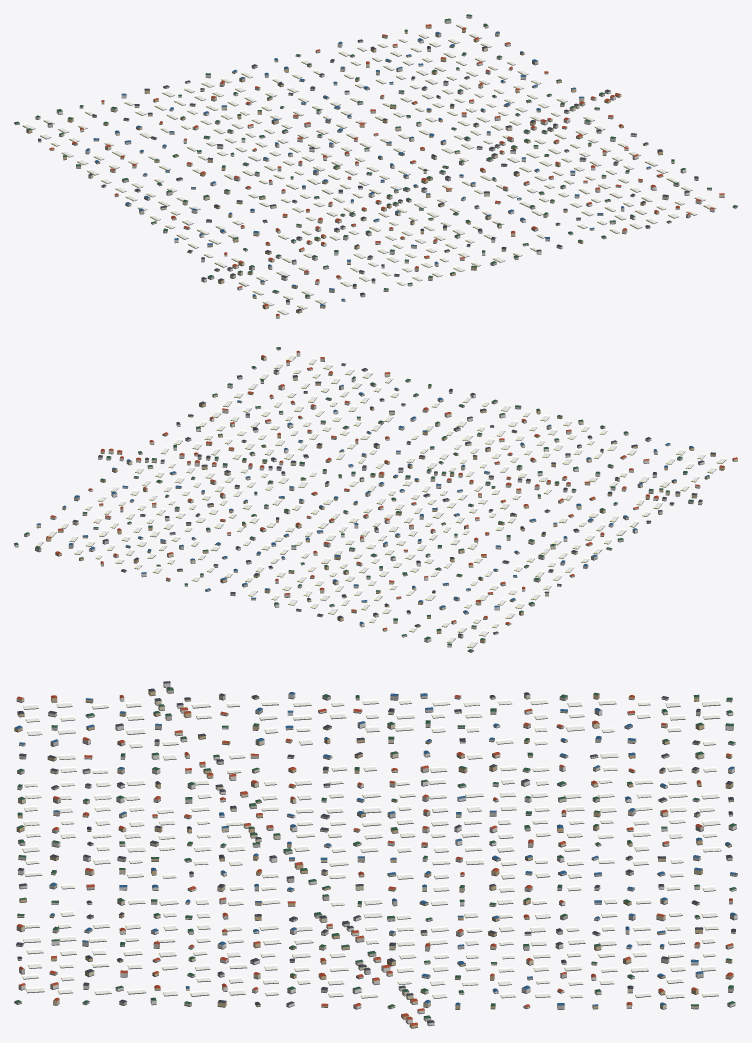
The model's file is buildings_T_E02_S07.glb.
3 renders of one model, top to bottom at view 1: azimuth 30°, elevation 25°; view 2: azimuth 150°, elevation 25°; view 3: azimuth 270°, elevation 25°, orthographic. The views are drawn at different scales.
Visible parts, largest first — view 1: T_E02_S07_roofs_agri_greenhouse_arch, T_E02_S07_slope_seating_foundations, T_E02_S07_walls_wall_pastel_sand_gray, T_E02_S07_walls_wall_modern_warm_white, T_E02_S07_walls_wall_french_ochre_villa, T_E02_S07_walls_wall_dalat_cream_stucco, T_E02_S07_roofs_roof_pine_green_hip, T_E02_S07_roofs_roof_terracotta_gable, T_E02_S07_roofs_roof_slate_French_villa_hip, T_E02_S07_roofs_roof_highland_blue_gable; view 2: T_E02_S07_roofs_agri_greenhouse_arch, T_E02_S07_slope_seating_foundations, T_E02_S07_walls_wall_pastel_sand_gray, T_E02_S07_walls_wall_dalat_cream_stucco, T_E02_S07_walls_wall_french_ochre_villa, T_E02_S07_walls_wall_modern_warm_white, T_E02_S07_roofs_roof_pine_green_hip, T_E02_S07_roofs_roof_terracotta_gable, T_E02_S07_roofs_roof_slate_French_villa_hip, T_E02_S07_roofs_roof_highland_blue_gable; view 3: T_E02_S07_roofs_agri_greenhouse_arch, T_E02_S07_slope_seating_foundations, T_E02_S07_walls_wall_modern_warm_white, T_E02_S07_walls_wall_pastel_sand_gray, T_E02_S07_walls_wall_dalat_cream_stucco, T_E02_S07_walls_wall_french_ochre_villa, T_E02_S07_roofs_roof_pine_green_hip, T_E02_S07_roofs_roof_terracotta_gable, T_E02_S07_roofs_roof_slate_French_villa_hip, T_E02_S07_roofs_roof_highland_blue_gable.
Boxes of the visible parts, bbox=[...] form: T_E02_S07_roofs_agri_greenhouse_arch: bbox=[22, 23, 716, 314]; T_E02_S07_slope_seating_foundations: bbox=[14, 17, 737, 318]; T_E02_S07_walls_wall_pastel_sand_gray: bbox=[14, 20, 737, 298]; T_E02_S07_walls_wall_modern_warm_white: bbox=[35, 15, 714, 304]; T_E02_S07_walls_wall_french_ochre_villa: bbox=[26, 25, 662, 312]; T_E02_S07_walls_wall_dalat_cream_stucco: bbox=[49, 24, 724, 318]; T_E02_S07_roofs_roof_pine_green_hip: bbox=[14, 14, 737, 296]; T_E02_S07_roofs_roof_terracotta_gable: bbox=[50, 24, 724, 315]; T_E02_S07_roofs_roof_slate_French_villa_hip: bbox=[38, 39, 698, 311]; T_E02_S07_roofs_roof_highland_blue_gable: bbox=[85, 31, 650, 306]; T_E02_S07_roofs_agri_greenhouse_arch: bbox=[35, 354, 726, 647]; T_E02_S07_slope_seating_foundations: bbox=[14, 349, 737, 652]; T_E02_S07_walls_wall_pastel_sand_gray: bbox=[35, 348, 693, 652]; T_E02_S07_walls_wall_dalat_cream_stucco: bbox=[24, 356, 737, 628]; T_E02_S07_walls_wall_french_ochre_villa: bbox=[46, 372, 724, 642]; T_E02_S07_walls_wall_modern_warm_white: bbox=[14, 352, 704, 646]; T_E02_S07_roofs_roof_pine_green_hip: bbox=[14, 347, 693, 651]; T_E02_S07_roofs_roof_terracotta_gable: bbox=[46, 350, 737, 629]; T_E02_S07_roofs_roof_slate_French_villa_hip: bbox=[72, 363, 715, 635]; T_E02_S07_roofs_roof_highland_blue_gable: bbox=[36, 384, 709, 623]; T_E02_S07_roofs_agri_greenhouse_arch: bbox=[22, 698, 721, 998]; T_E02_S07_slope_seating_foundations: bbox=[14, 686, 737, 1028]; T_E02_S07_walls_wall_modern_warm_white: bbox=[18, 683, 737, 1025]; T_E02_S07_walls_wall_pastel_sand_gray: bbox=[14, 688, 735, 1020]; T_E02_S07_walls_wall_dalat_cream_stucco: bbox=[16, 693, 737, 1009]; T_E02_S07_walls_wall_french_ochre_villa: bbox=[14, 690, 733, 1028]; T_E02_S07_roofs_roof_pine_green_hip: bbox=[14, 687, 736, 1018]; T_E02_S07_roofs_roof_terracotta_gable: bbox=[16, 695, 733, 1025]; T_E02_S07_roofs_roof_slate_French_villa_hip: bbox=[16, 681, 735, 1023]; T_E02_S07_roofs_roof_highland_blue_gable: bbox=[14, 692, 737, 1006].
Size of the model in its own units: 1928 by 39.2 by 1754.
